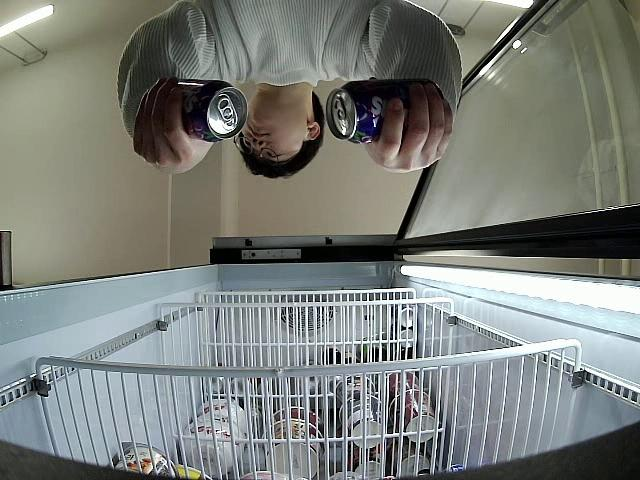00_hand: (361, 79, 453, 173), (133, 77, 215, 176)
14_welchsGrape: (327, 79, 446, 143), (173, 79, 248, 142)
